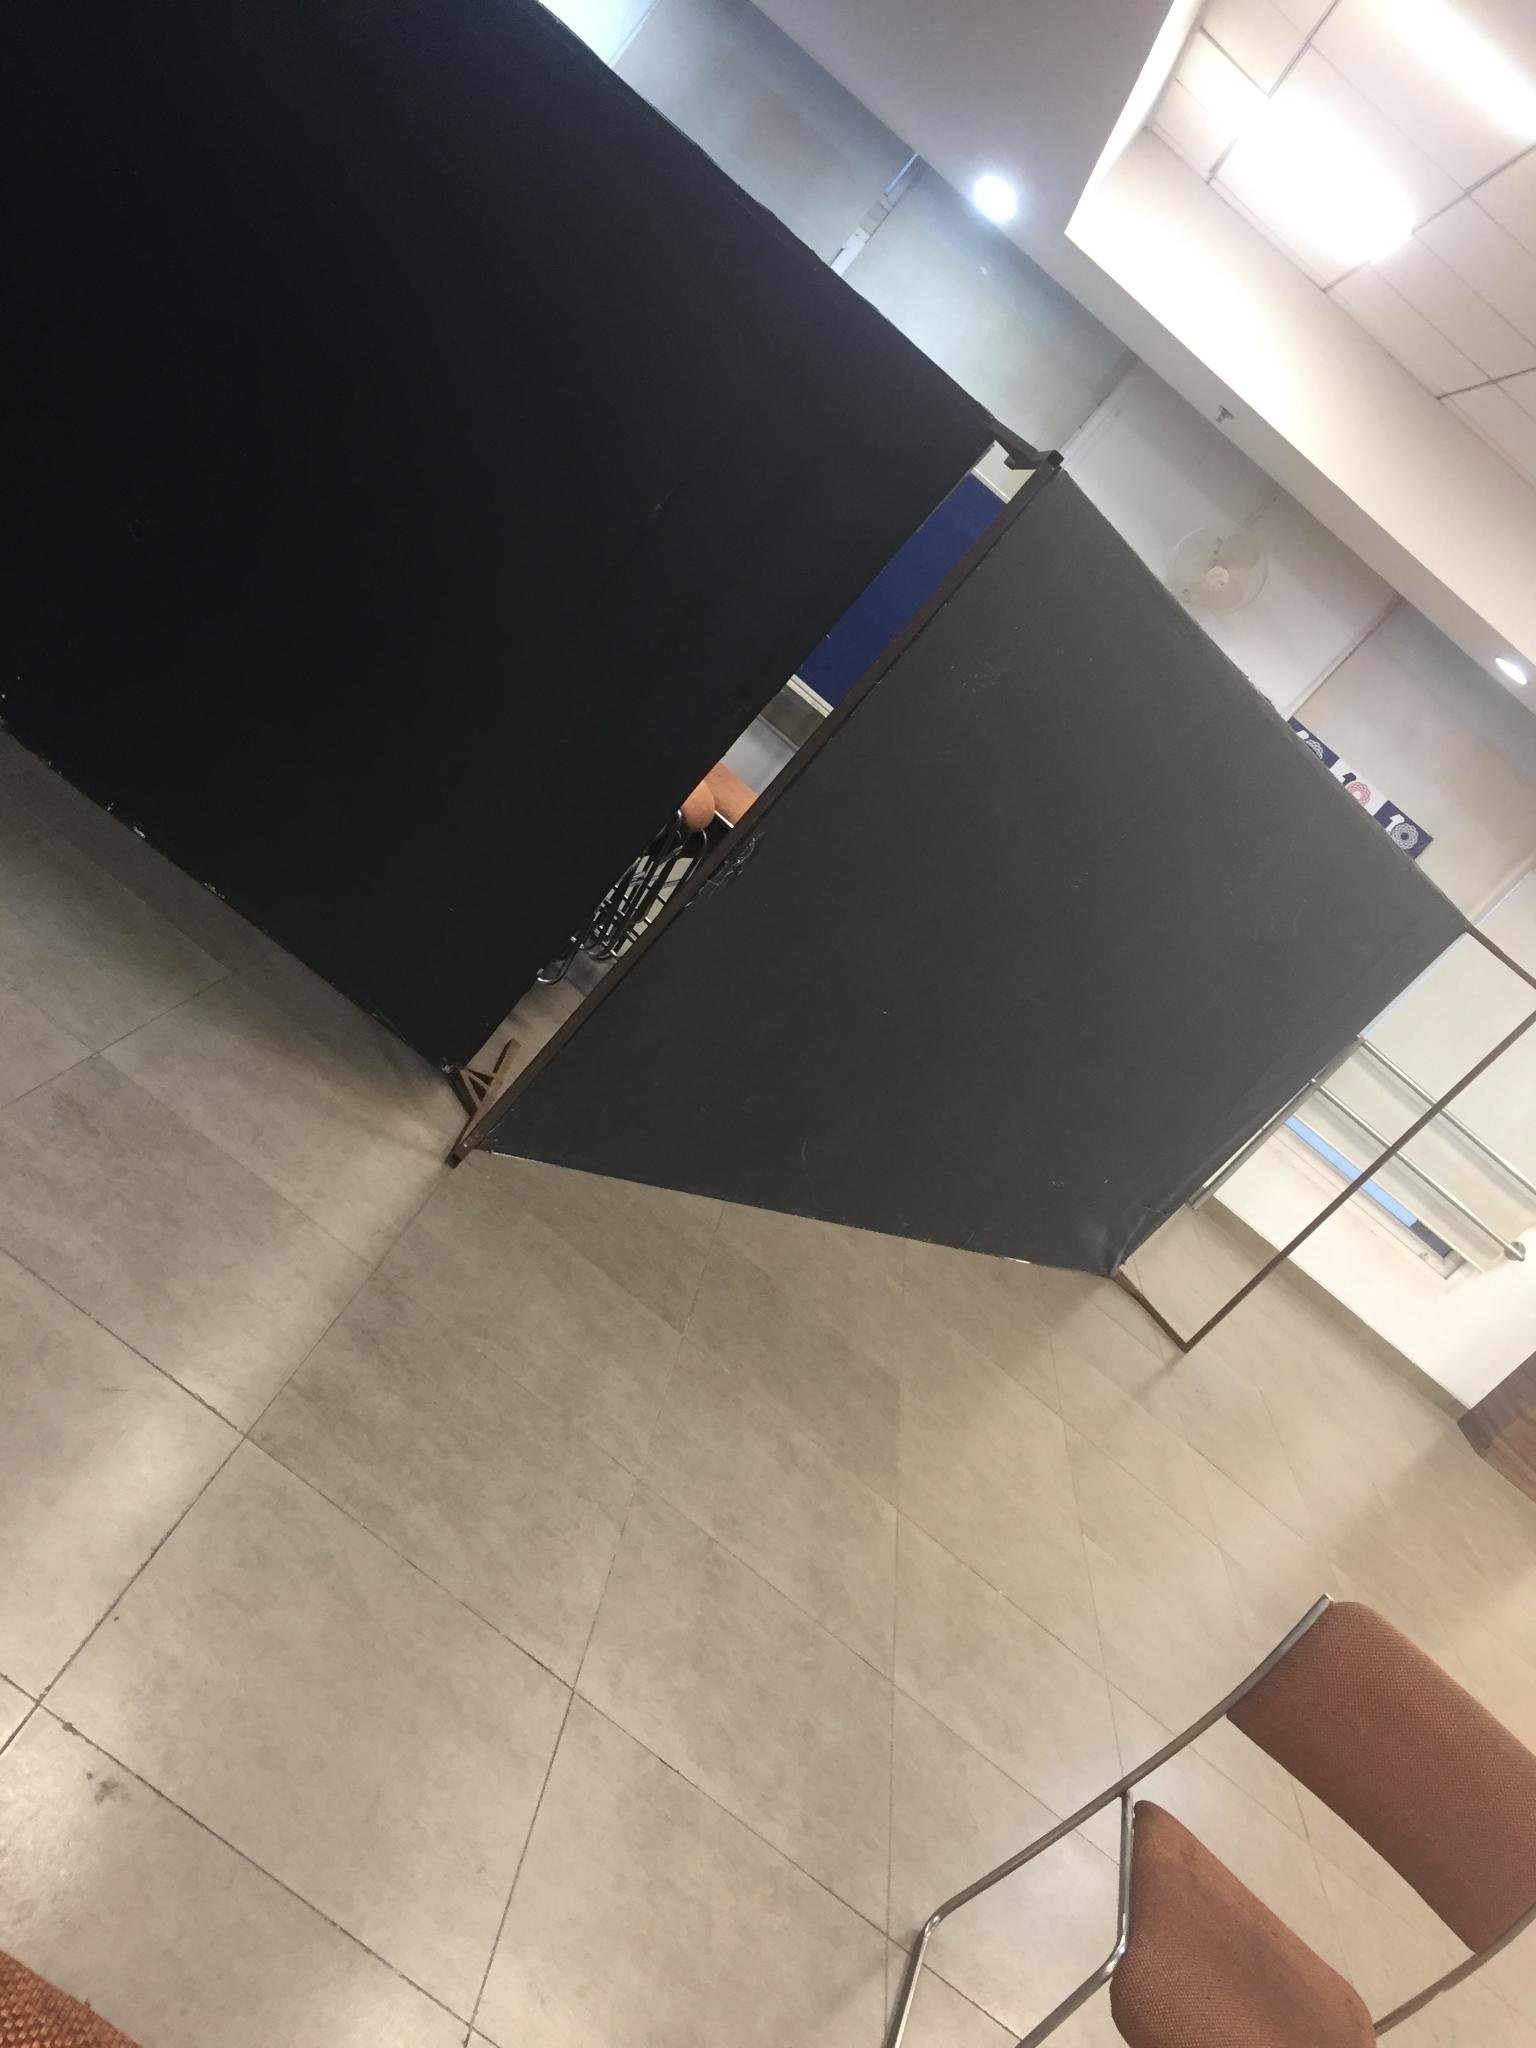chair: (884, 1592, 1534, 2046), (571, 763, 769, 957)
